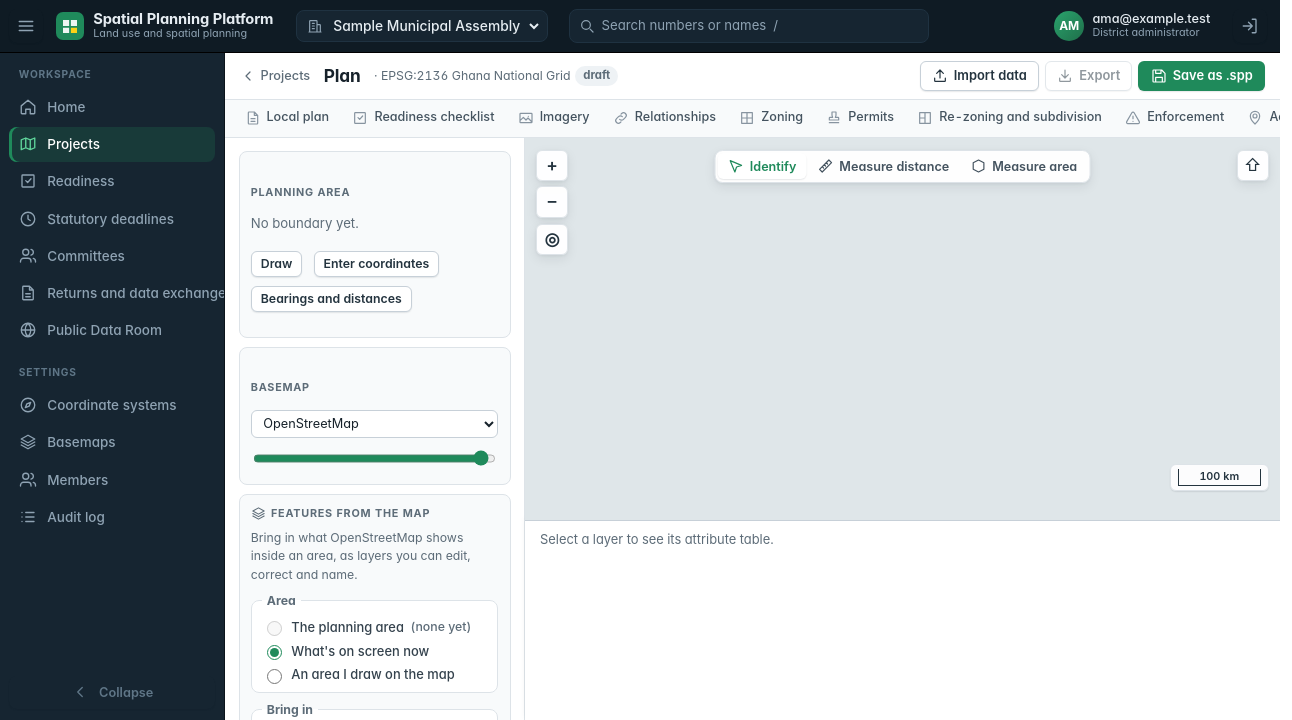
Scenario: basemap picker in a project › explains a missing key instead of showing a blank map
Note: The first available basemap is chosen once the list has loaded.
Select "Google Maps (satellite) (needs a key)" in the dropdown named "Basemap". click: (375, 424)
box: [251,410,498,438]
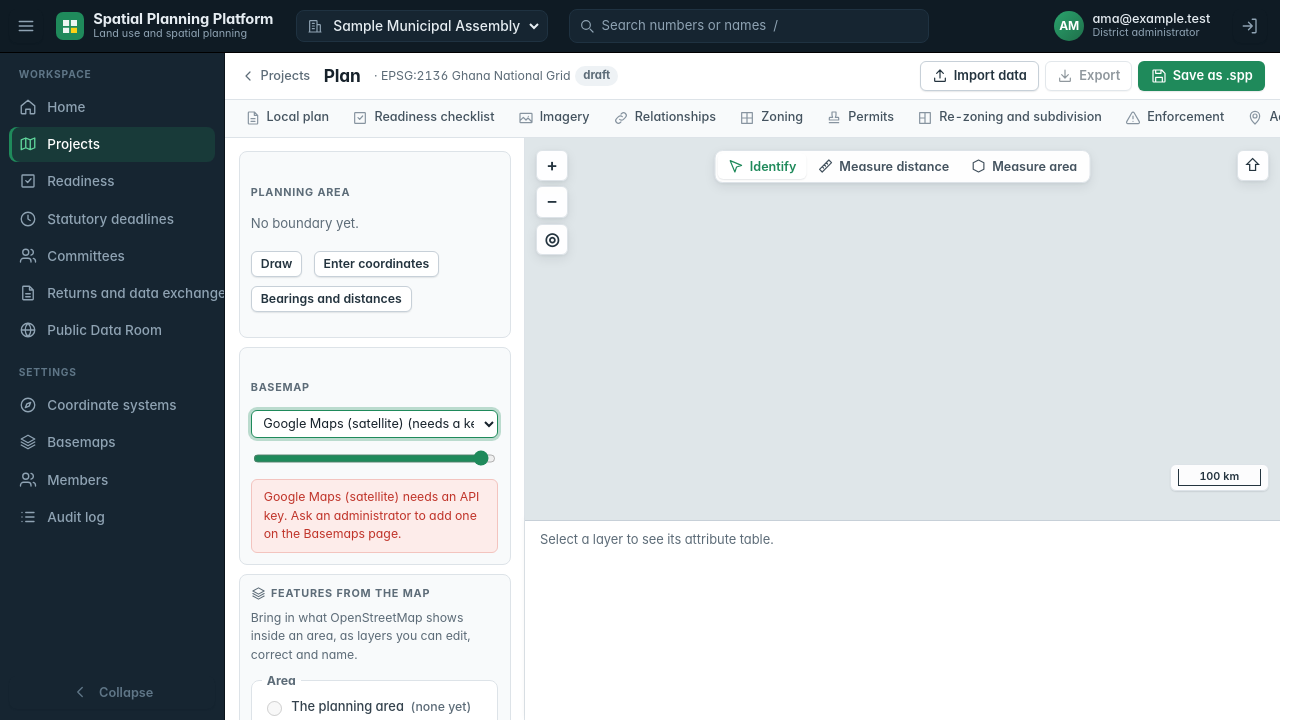
Check: the message shows "needs an API key", box [264,489,479,541]
